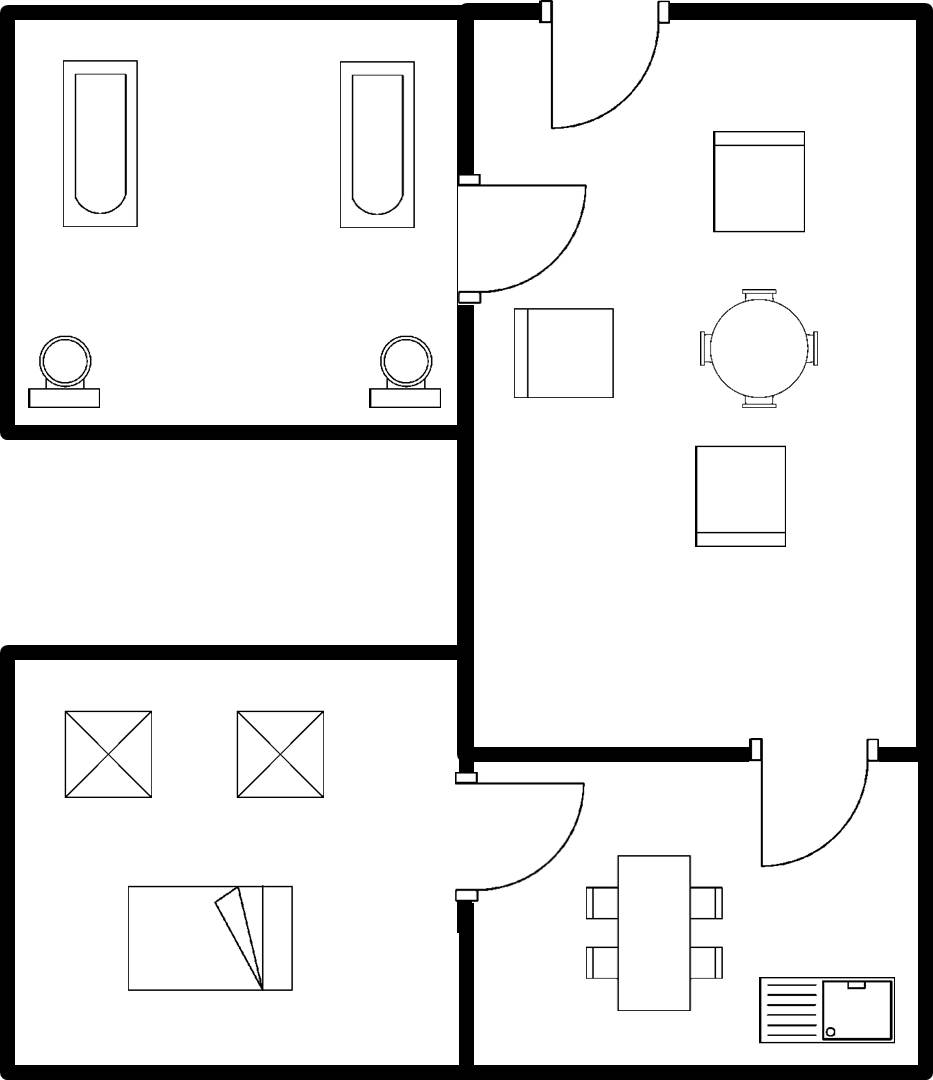bed: (118, 875, 303, 1003)
coffee_table: (228, 701, 333, 809), (57, 704, 163, 809)
dining_table: (575, 847, 729, 1019)
large_sink: (361, 328, 450, 416), (22, 332, 108, 416)
round_table: (691, 282, 828, 417)
sink: (750, 969, 902, 1052)
small_sofa: (501, 298, 625, 407), (684, 439, 802, 553), (703, 121, 814, 241)
tub: (331, 52, 424, 236), (54, 53, 147, 235)
